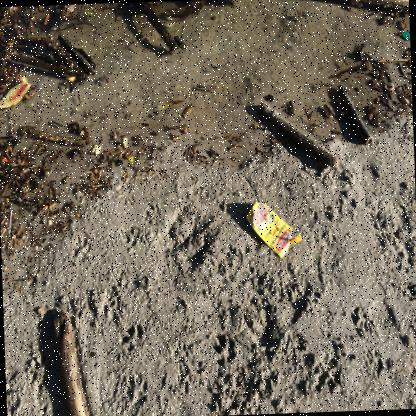Other plastic: (247, 202, 302, 258)
Styrofoam piece: (92, 145, 102, 155)
